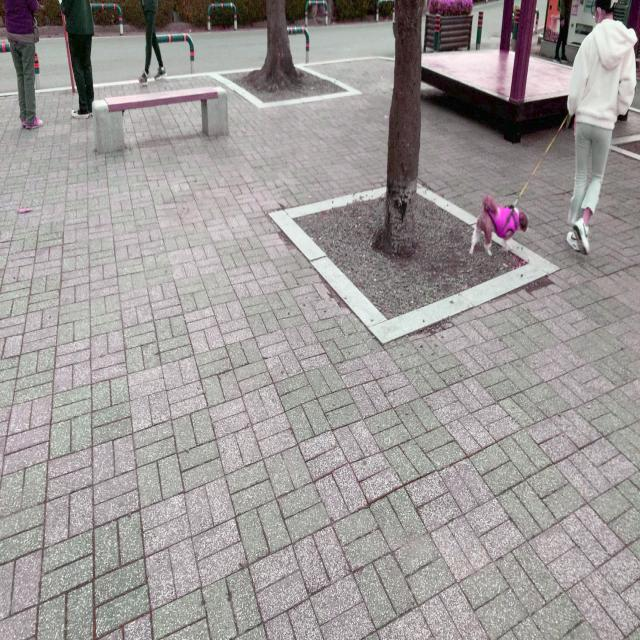Leashed_Dog: (469, 111, 590, 256)
